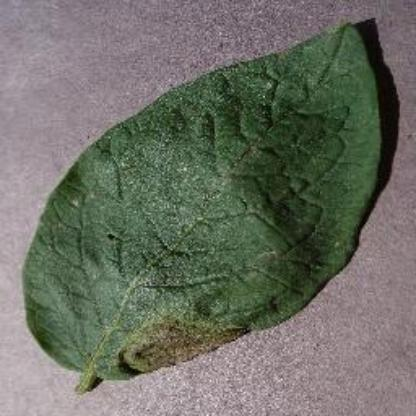Late-Blight: (23, 17, 390, 391)
